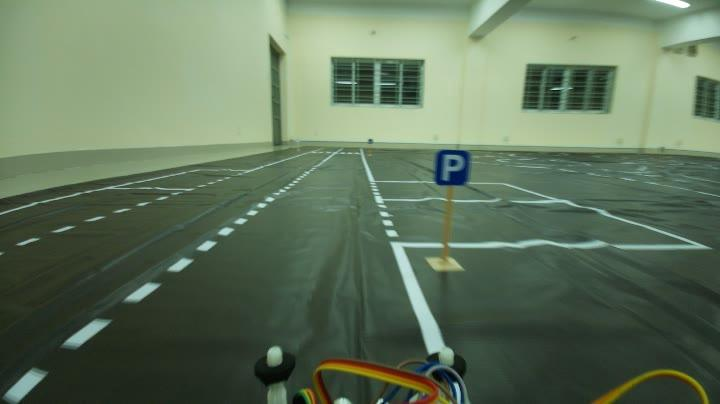parking: (426, 143, 486, 193)
